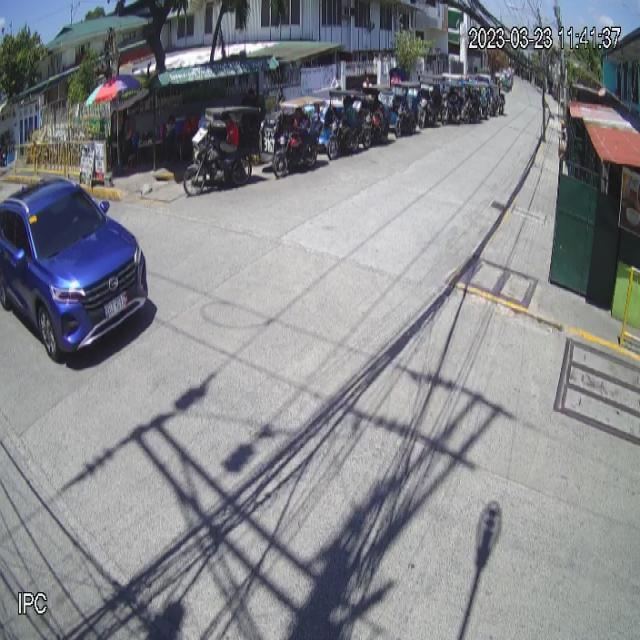Car: (0, 174, 150, 362)
